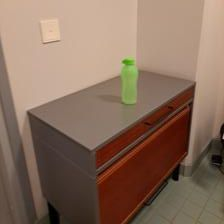bottle: (119, 55, 137, 108)
